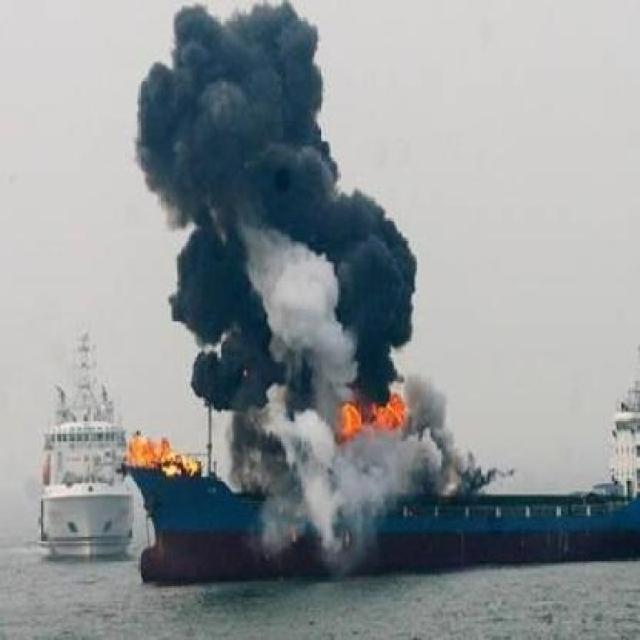Fire: (124, 430, 198, 484), (337, 395, 406, 438)
Smoke: (134, 4, 408, 400), (239, 410, 343, 562), (349, 443, 487, 508)
